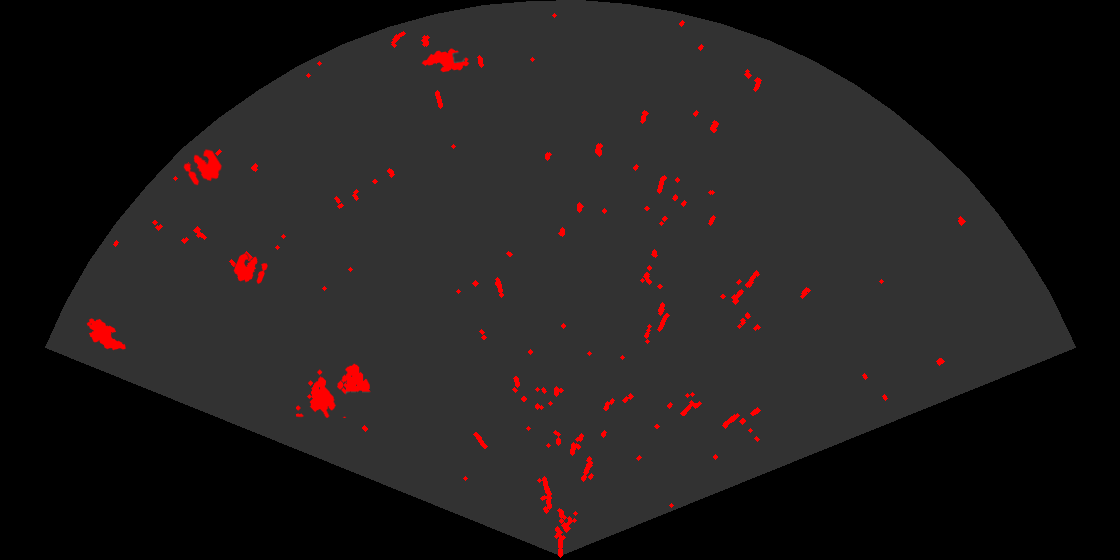AUV: (85, 317, 127, 352), (420, 47, 471, 74)
ball: (182, 147, 224, 187), (232, 252, 269, 286)
cage: (296, 362, 372, 418)
